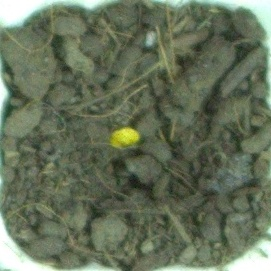pepper seed: (38, 51, 180, 201)
